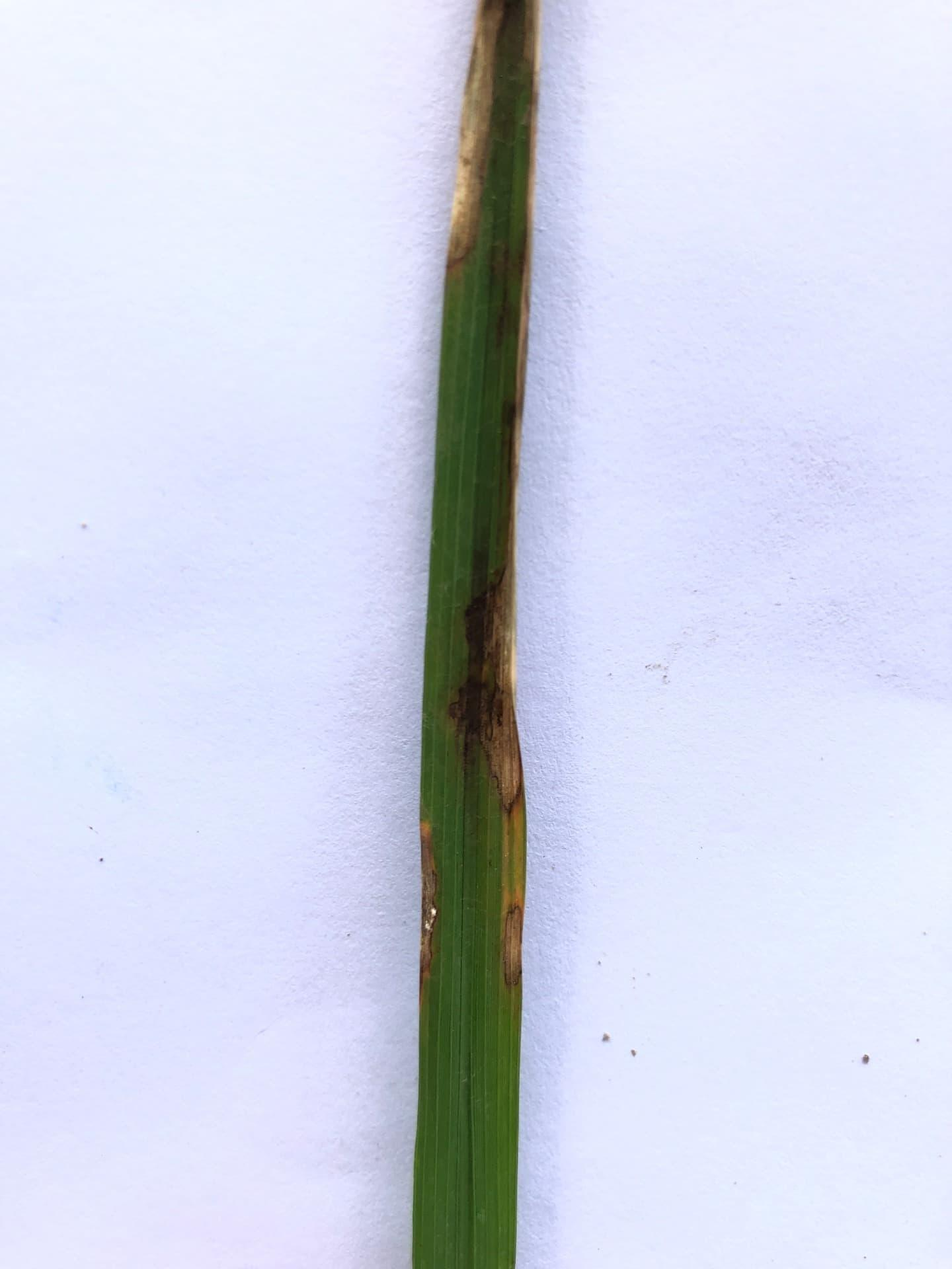Leaf Blight: (457, 0, 540, 991), (448, 0, 507, 271), (415, 815, 434, 1028)
